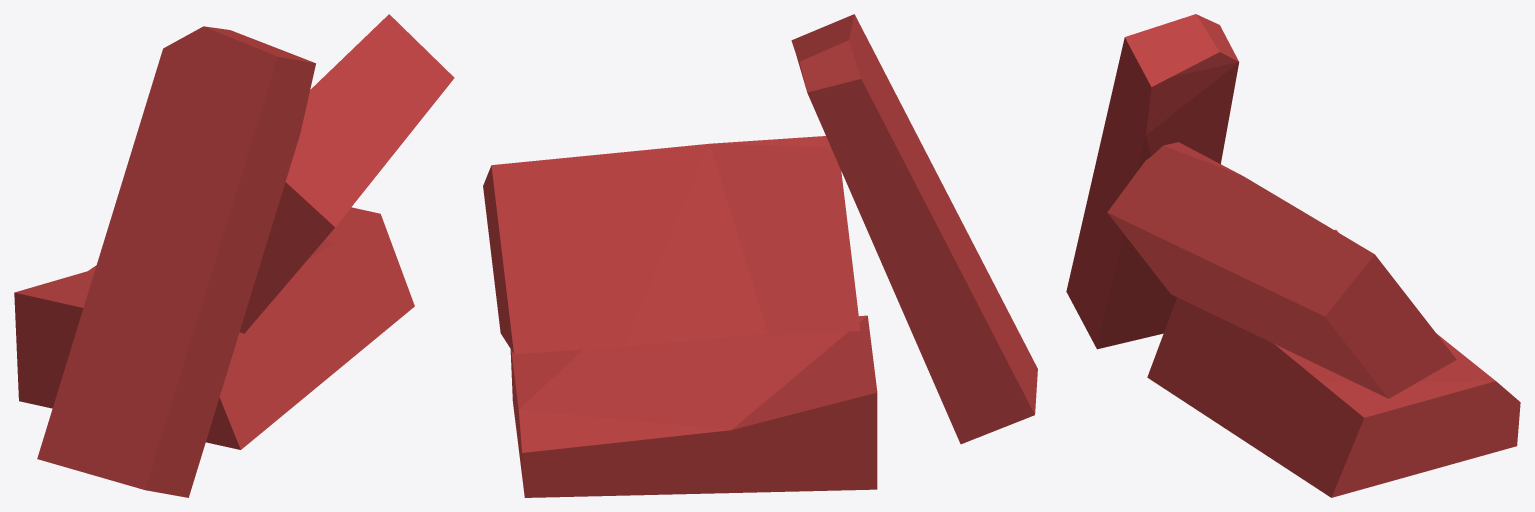
File: ea_arch_wall03_rubble_broken_01a_pre__1__lev1.glb
3 renders of one model, left to right at view 1: azimuth 30°, elevation 25°; view 2: azimuth 150°, elevation 25°; view 3: azimuth 270°, elevation 25°, orthographic. The views are drawn at different scales.
Parts seen in each view (by area): view 1: ea_arch_wall03_rubble_broken_01a_pre__1__lev1; view 2: ea_arch_wall03_rubble_broken_01a_pre__1__lev1; view 3: ea_arch_wall03_rubble_broken_01a_pre__1__lev1.
Boxes of the visible parts, box(x1,y1,x2,y2) form: ea_arch_wall03_rubble_broken_01a_pre__1__lev1: box(14, 14, 454, 497); ea_arch_wall03_rubble_broken_01a_pre__1__lev1: box(483, 14, 1037, 497); ea_arch_wall03_rubble_broken_01a_pre__1__lev1: box(1066, 14, 1520, 497).
Size of the model in its own units: 1.49 by 1.16 by 1.3.
1 material, 1 textured.
